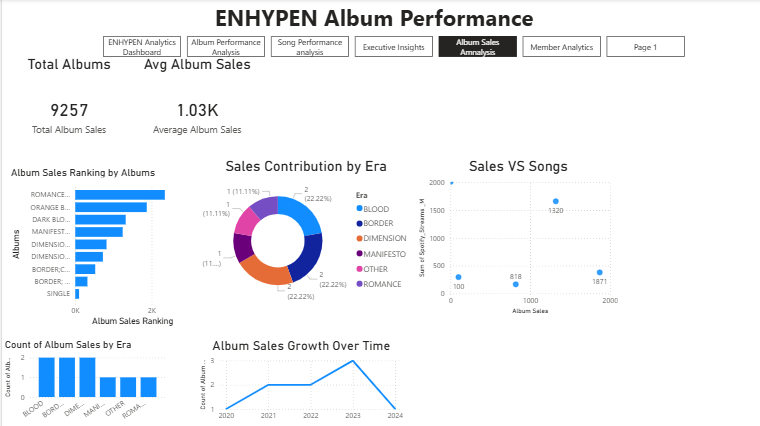

The page's visual inventory and layout, read from the dashboard file:
{"tool":"powerbi","page":{"name":"Album Sales Amnalysis","canvas":[1280,720],"ordinal":4},"visuals":[{"type":"card","title":"Total Albums","fields":{"Values":["Albums.Total Album Sales"]},"box":[10.5,96.5,205.3,170.2],"z":0},{"type":"card","title":"Avg Album Sales","fields":{"Values":["Albums.Average Album Sales"]},"box":[219.3,96.5,215.8,170.2],"z":1000},{"type":"clusteredBarChart","fields":{"Category":["Albums.Albums"],"Y":["Sum(Albums.Album Sales)"]},"box":[10.5,280.7,317.5,273.7],"z":2000},{"type":"scatterChart","title":"Sales VS Songs","fields":{"X":["Albums.Album Sales"],"Y":["Sum(Songs.Spotify_Streams _M)"],"Size":["select"]},"box":[694.7,266.7,343.9,266.7],"z":3000},{"type":"clusteredColumnChart","fields":{"Category":["Albums.Era"],"Y":["CountNonNull(Albums.Album Sales)"]},"box":[0,570.2,278.9,149.1],"z":3001},{"type":"donutChart","title":"Sales Contribution by Era","fields":{"Category":["Albums.Era"],"Y":["CountNonNull(Albums.Album Sales)"]},"box":[328.1,266.7,366.7,250.9],"z":3002},{"type":"lineChart","title":"Album Sales Growth Over Time","fields":{"Category":["Albums.Release Year"],"Y":["CountNonNull(Albums.Album Sales)"]},"box":[328.1,570.2,350.9,149.1],"z":3003},{"type":"textbox","box":[0,0,1250.9,82.5],"z":3004},{"type":"pageNavigator","box":[170.2,61.4,980.7,35.1],"z":3005}]}

Visuals, with their boxes in screenshot pixels (x1, y1, x2, y2), scaled from the page's 1280x720 canvas onto the 760x426 screenshot:
"Total Albums" card: x1=6, y1=57, x2=128, y2=158
"Avg Album Sales" card: x1=130, y1=57, x2=258, y2=158
clusteredBarChart - Albums.Albums x Sum(Albums.Album Sales): x1=6, y1=166, x2=195, y2=328
"Sales VS Songs" scatterChart: x1=412, y1=158, x2=617, y2=316
clusteredColumnChart - Albums.Era x CountNonNull(Albums.Album Sales): x1=0, y1=337, x2=166, y2=425
"Sales Contribution by Era" donutChart: x1=195, y1=158, x2=413, y2=306
"Album Sales Growth Over Time" lineChart: x1=195, y1=337, x2=403, y2=425
textbox: x1=0, y1=0, x2=743, y2=49
pageNavigator: x1=101, y1=36, x2=683, y2=57
